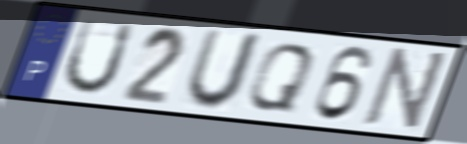2: (118, 25, 190, 107)
6: (311, 44, 375, 123)
N: (358, 46, 452, 135)
Q: (244, 41, 318, 114)
U: (182, 26, 267, 113), (60, 17, 139, 97)
